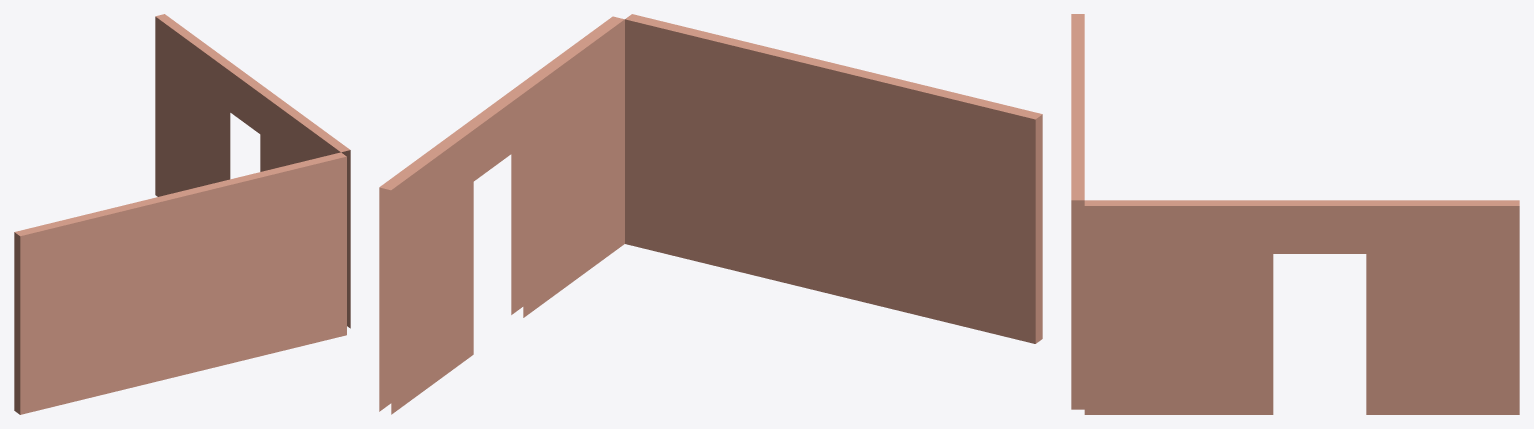
Rendered from wall.fbx.
The picture shows the model from 3 angles, left to right: view 1: azimuth 30°, elevation 25°; view 2: azimuth 150°, elevation 25°; view 3: azimuth 270°, elevation 25°; orthographic projection. The views are drawn at different scales.
Visible parts, largest first — view 1: wall.002; view 2: wall.002; view 3: wall.002.
Part boxes in pixels (x1,y1,x2,y2): wall.002: [14, 14, 350, 414]; wall.002: [379, 14, 1042, 414]; wall.002: [1071, 14, 1519, 414].
Size of the model in its own units: 492 by 250 by 486.
